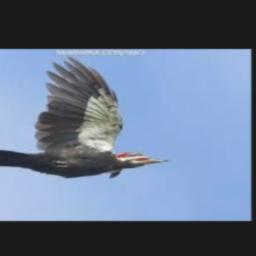Woodpecker: (0, 56, 171, 177)
